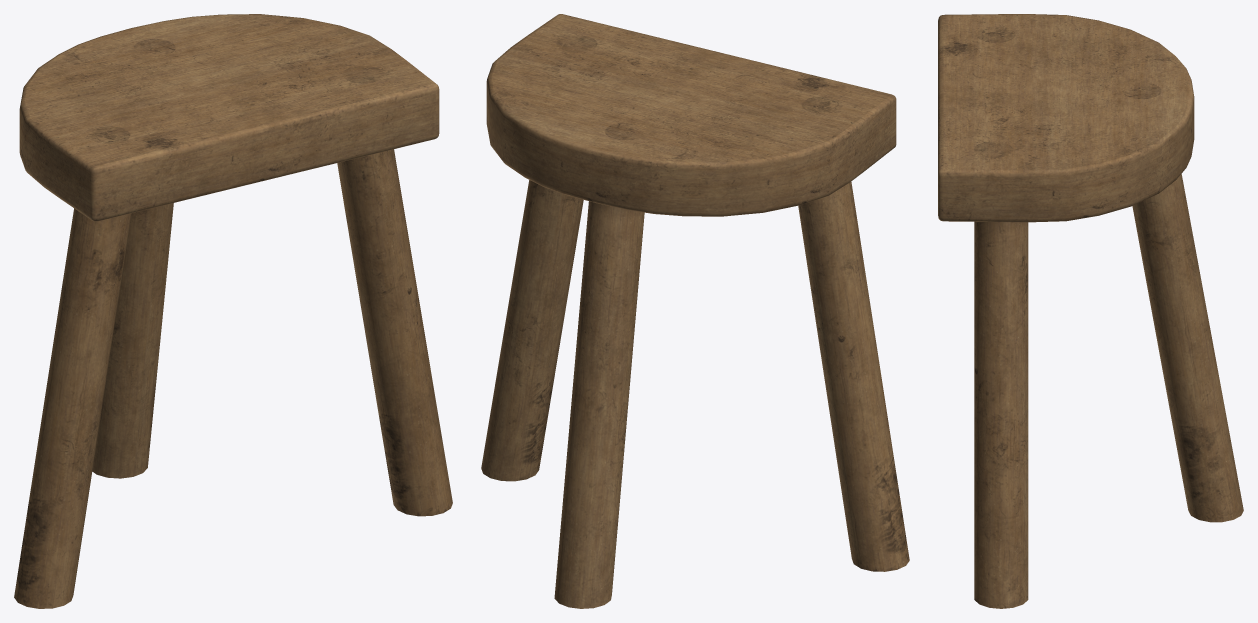
The model's file is stool_3_legged.glb.
The picture shows the model from 3 angles, left to right: view 1: azimuth 30°, elevation 25°; view 2: azimuth 150°, elevation 25°; view 3: azimuth 270°, elevation 25°; orthographic projection. The views are drawn at different scales.
Parts seen in each view (by area): view 1: small_stool_02_low; view 2: small_stool_02_low; view 3: small_stool_02_low.
Boxes of the visible parts, x1,y1,x2,y2 form: small_stool_02_low: (14, 14, 452, 608); small_stool_02_low: (481, 14, 909, 608); small_stool_02_low: (938, 14, 1243, 608).
Bounding box in the file's own units: 54.66 × 54.29 × 35.96.
Materials: 1 (1 with a texture image).
